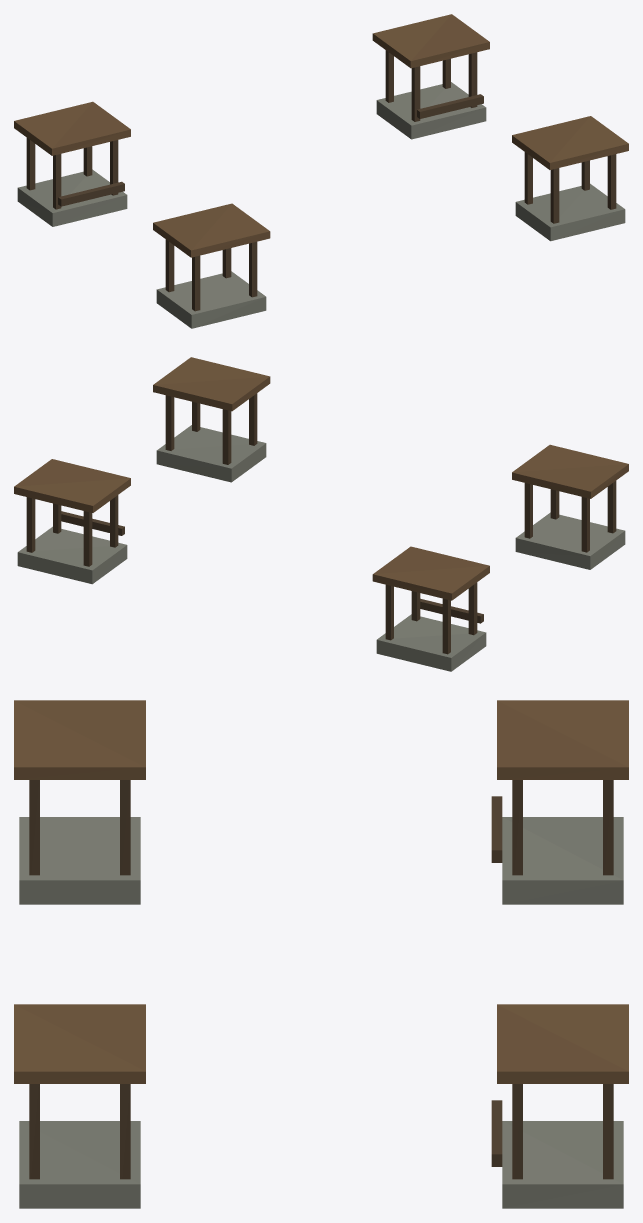
Rendered from MIL-05-5.glb.
3 renders of one model, top to bottom at view 1: azimuth 30°, elevation 25°; view 2: azimuth 150°, elevation 25°; view 3: azimuth 270°, elevation 25°, orthographic. The views are drawn at different scales.
Visible parts, largest first — view 1: city-details/MIL-05-5; view 2: city-details/MIL-05-5; view 3: city-details/MIL-05-5.
Part boxes in pixels (x1=…): city-details/MIL-05-5: x1=14, y1=14, x2=628, y2=328; city-details/MIL-05-5: x1=14, y1=357, x2=628, y2=671; city-details/MIL-05-5: x1=14, y1=700, x2=628, y2=1208.
Size of the model in its own units: 8.91 by 1.57 by 6.24.
